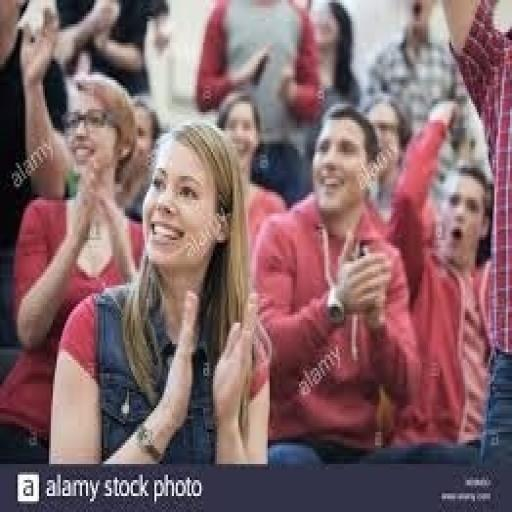clapping: (45, 117, 274, 467), (248, 101, 422, 467), (0, 70, 149, 462), (383, 96, 498, 459), (432, 0, 510, 472)
